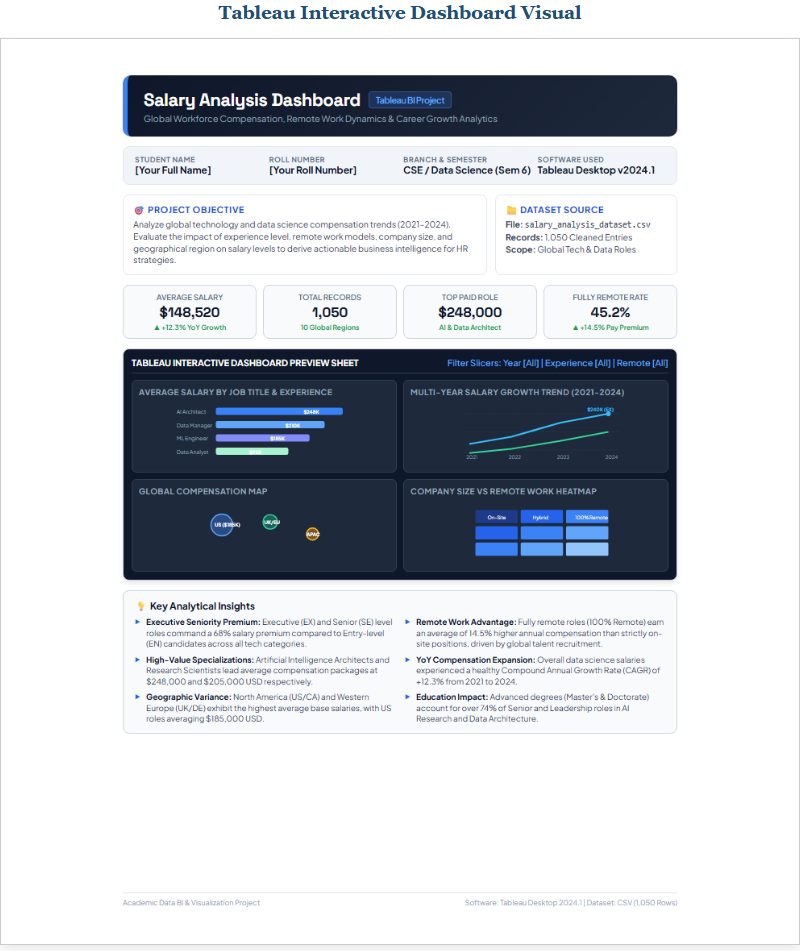

Layout of this report page (visuals, bound fields, positions):
{"tool":"tableau","page":{"name":"Salary Analysis Dashboard","canvas":[1920,1080],"ordinal":0},"visuals":[{"type":"worksheet","box":[0,0,1920,1080]},{"type":"worksheet","title":"Title","box":[0,0,1920,101.5]},{"type":"worksheet","box":[0,101.5,1920,194.4]},{"type":"worksheet","title":"KPI_Avg_Salary","box":[0,101.5,480,194.4]},{"type":"worksheet","title":"KPI_Total_Employees","box":[480,101.5,480,194.4]},{"type":"worksheet","title":"KPI_Top_Paying_Role","box":[960,101.5,480,194.4]},{"type":"worksheet","title":"KPI_Remote_Work_Pct","box":[1440,101.5,480,194.4]},{"type":"worksheet","box":[0,295.9,1920,388.8]},{"type":"worksheet","title":"Bar_Salary_by_Title_Exp","box":[0,295.9,960,388.8]},{"type":"worksheet","title":"Line_Salary_Trend","box":[960,295.9,960,388.8]},{"type":"worksheet","box":[0,684.7,1920,388.8]},{"type":"worksheet","title":"Map_Global_Salary","box":[0,684.7,640,388.8]},{"type":"worksheet","title":"Heatmap_Remote_CompanySize","box":[640,684.7,640,388.8]},{"type":"worksheet","title":"Donut_Education_Dept","box":[1280,684.7,640,388.8]}]}

Visuals, with their boxes on the page's 1920x1080 design canvas (x1, y1, x2, y2). These are canvas units, not pixel positions in the 800x951 screenshot, which may show the page scaled, cropped or inside an application window:
worksheet: bbox=(0, 0, 1920, 1080)
"Title" worksheet: bbox=(0, 0, 1920, 102)
worksheet: bbox=(0, 102, 1920, 296)
"KPI_Avg_Salary" worksheet: bbox=(0, 102, 480, 296)
"KPI_Total_Employees" worksheet: bbox=(480, 102, 960, 296)
"KPI_Top_Paying_Role" worksheet: bbox=(960, 102, 1440, 296)
"KPI_Remote_Work_Pct" worksheet: bbox=(1440, 102, 1920, 296)
worksheet: bbox=(0, 296, 1920, 685)
"Bar_Salary_by_Title_Exp" worksheet: bbox=(0, 296, 960, 685)
"Line_Salary_Trend" worksheet: bbox=(960, 296, 1920, 685)
worksheet: bbox=(0, 685, 1920, 1074)
"Map_Global_Salary" worksheet: bbox=(0, 685, 640, 1074)
"Heatmap_Remote_CompanySize" worksheet: bbox=(640, 685, 1280, 1074)
"Donut_Education_Dept" worksheet: bbox=(1280, 685, 1920, 1074)
